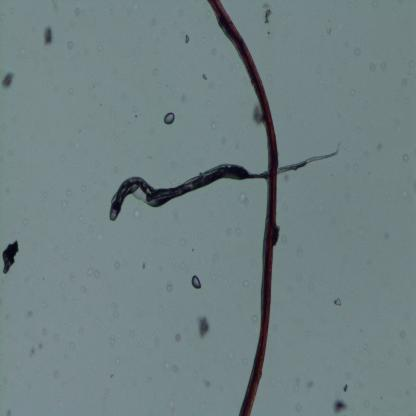Air bubble: (162, 112, 176, 126), (191, 273, 202, 289)
Background material: (2, 240, 20, 274), (260, 1, 274, 29), (196, 316, 212, 339), (251, 104, 264, 128), (167, 255, 186, 270), (108, 301, 121, 320), (332, 398, 347, 414), (0, 71, 14, 87), (398, 146, 410, 164), (199, 375, 213, 390), (44, 25, 54, 45), (162, 363, 178, 375), (70, 2, 82, 17), (132, 206, 144, 220), (171, 208, 183, 222), (103, 384, 111, 405), (65, 338, 77, 352), (87, 267, 101, 278), (64, 84, 74, 98), (135, 336, 145, 350), (51, 0, 63, 11), (57, 197, 68, 209), (222, 224, 233, 236), (106, 331, 116, 344), (238, 190, 248, 203), (376, 138, 384, 154), (399, 186, 408, 200), (112, 256, 121, 270), (76, 325, 86, 337), (212, 250, 219, 267), (139, 259, 148, 271), (107, 108, 119, 117), (294, 375, 299, 396), (63, 187, 73, 197), (20, 216, 30, 226), (242, 276, 250, 288), (400, 75, 408, 87), (233, 224, 241, 236), (174, 332, 182, 344), (72, 294, 80, 306), (295, 246, 303, 258), (28, 346, 36, 358), (384, 228, 390, 243), (147, 374, 156, 384), (80, 285, 90, 294), (372, 403, 380, 414), (94, 232, 102, 243), (66, 40, 74, 51), (40, 326, 48, 337), (306, 379, 315, 388), (369, 62, 377, 72), (294, 403, 302, 413), (250, 312, 258, 322), (334, 297, 342, 307), (51, 370, 61, 378), (131, 104, 137, 117), (345, 0, 354, 8), (179, 235, 185, 247), (282, 231, 288, 243), (166, 283, 173, 293), (220, 134, 227, 144), (92, 159, 102, 166), (326, 26, 332, 37), (40, 190, 48, 198), (364, 400, 372, 408), (92, 316, 100, 324), (399, 328, 406, 337), (379, 62, 386, 71), (159, 26, 166, 35), (78, 183, 85, 192), (410, 60, 416, 70), (180, 91, 186, 101), (78, 213, 84, 222), (96, 44, 103, 51), (354, 159, 358, 171), (361, 343, 369, 349), (28, 308, 34, 316), (354, 47, 360, 55), (152, 68, 158, 76), (343, 385, 349, 393), (185, 34, 189, 45), (36, 344, 44, 349), (42, 299, 47, 307), (202, 73, 207, 81), (72, 275, 76, 284), (116, 356, 120, 364), (213, 124, 217, 130), (79, 236, 83, 241), (116, 168, 119, 173)
Cellulose filter fibre: (109, 139, 342, 220)
Cotton: (207, 0, 280, 416)
